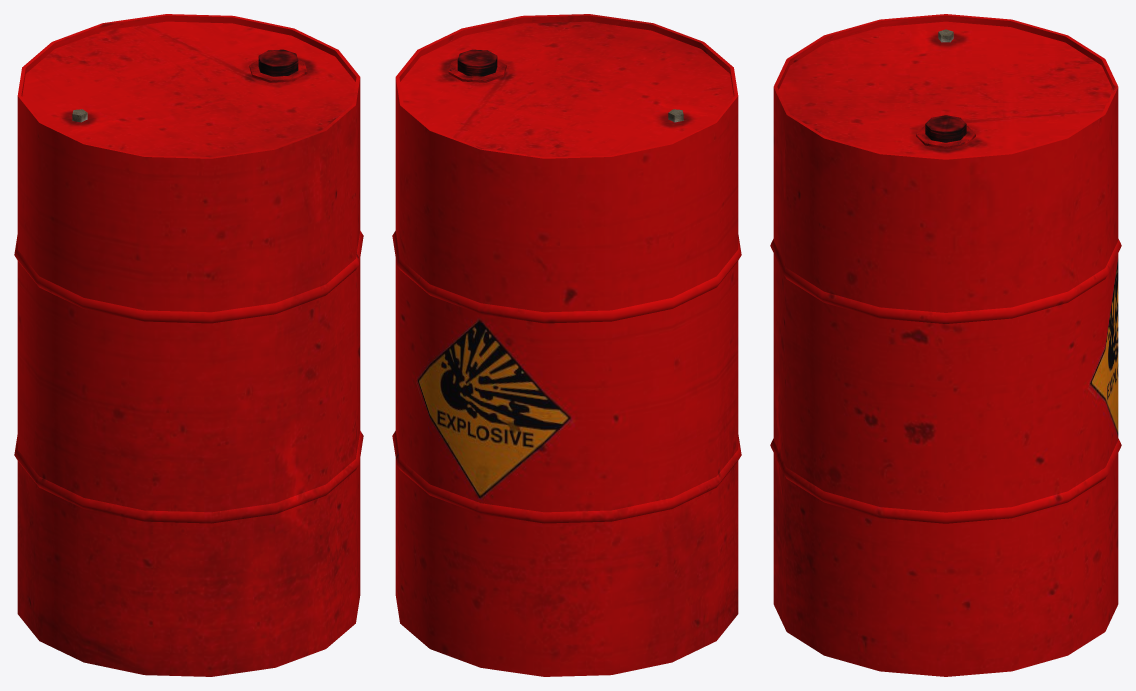
The model's file is drum1.FBX.
3 views of the same model, side by side, from view 1: azimuth 30°, elevation 25°; view 2: azimuth 150°, elevation 25°; view 3: azimuth 270°, elevation 25° (orthographic).
Parts seen in each view (by area): view 1: ExplosiveBarrel; view 2: ExplosiveBarrel; view 3: ExplosiveBarrel.
Part boxes in pixels (left/top/right/bottom): ExplosiveBarrel: left=14, top=14, right=363, bottom=676; ExplosiveBarrel: left=392, top=14, right=741, bottom=676; ExplosiveBarrel: left=770, top=14, right=1121, bottom=676.
Bounding box in the file's own units: 952 × 952 × 1564.
Materials: 1 (1 with a texture image).
